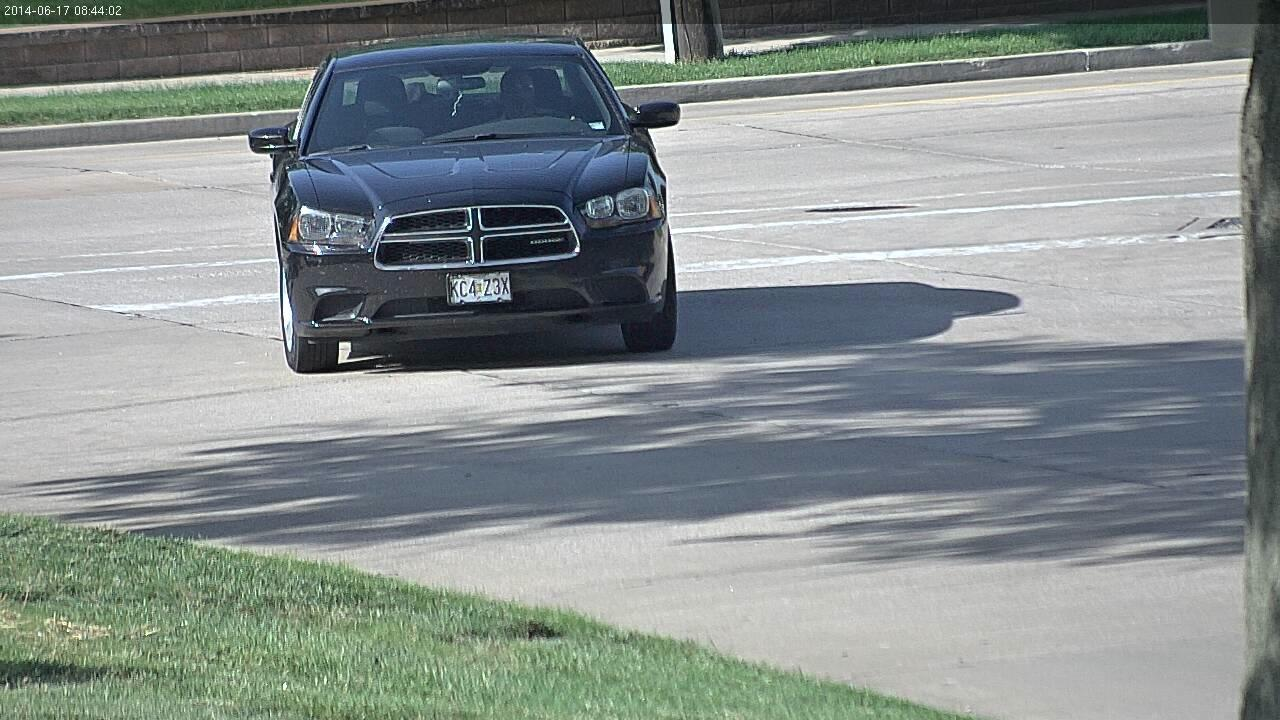placa de veiculo: (421, 256, 524, 315)
